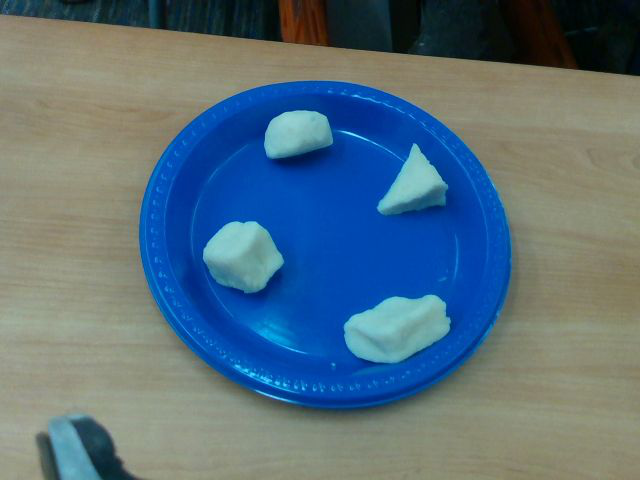mashed_potato: (344, 295, 451, 363), (203, 221, 283, 292), (378, 143, 447, 215), (264, 110, 333, 159)
